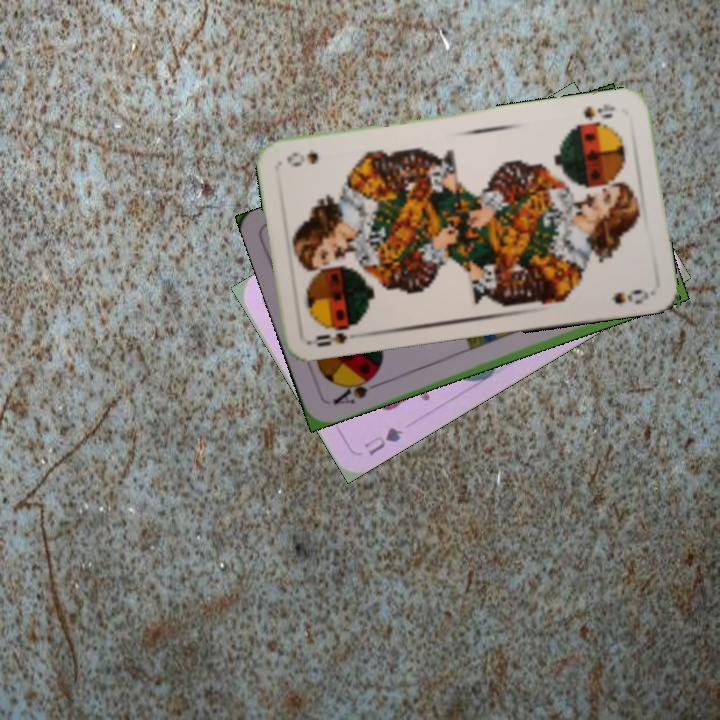GU: (360, 423, 406, 459)
SA: (329, 371, 383, 407)
SO: (306, 320, 362, 350), (571, 100, 618, 128)
